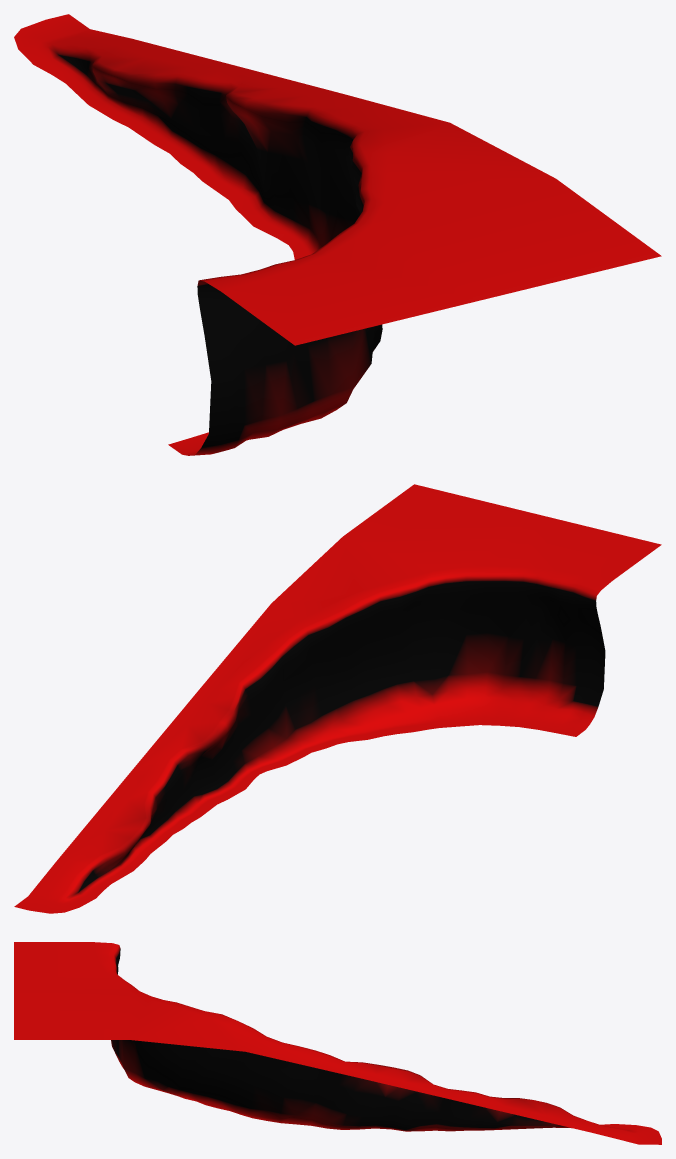
The model's file is ClimbCliff02C 1M Background.fbx.
3 views of the same model, one above another, from view 1: azimuth 30°, elevation 25°; view 2: azimuth 150°, elevation 25°; view 3: azimuth 270°, elevation 25° (orthographic). The views are drawn at different scales.
Visible parts, largest first — view 1: ClimbCliff02C 1M Background; view 2: ClimbCliff02C 1M Background; view 3: ClimbCliff02C 1M Background.
Boxes of the visible parts, left/top/right/bottom form: ClimbCliff02C 1M Background: left=14, top=14, right=661, bottom=455; ClimbCliff02C 1M Background: left=14, top=484, right=661, bottom=913; ClimbCliff02C 1M Background: left=14, top=942, right=661, bottom=1144.
Bounding box in the file's own units: 2 × 1 × 5.6.
